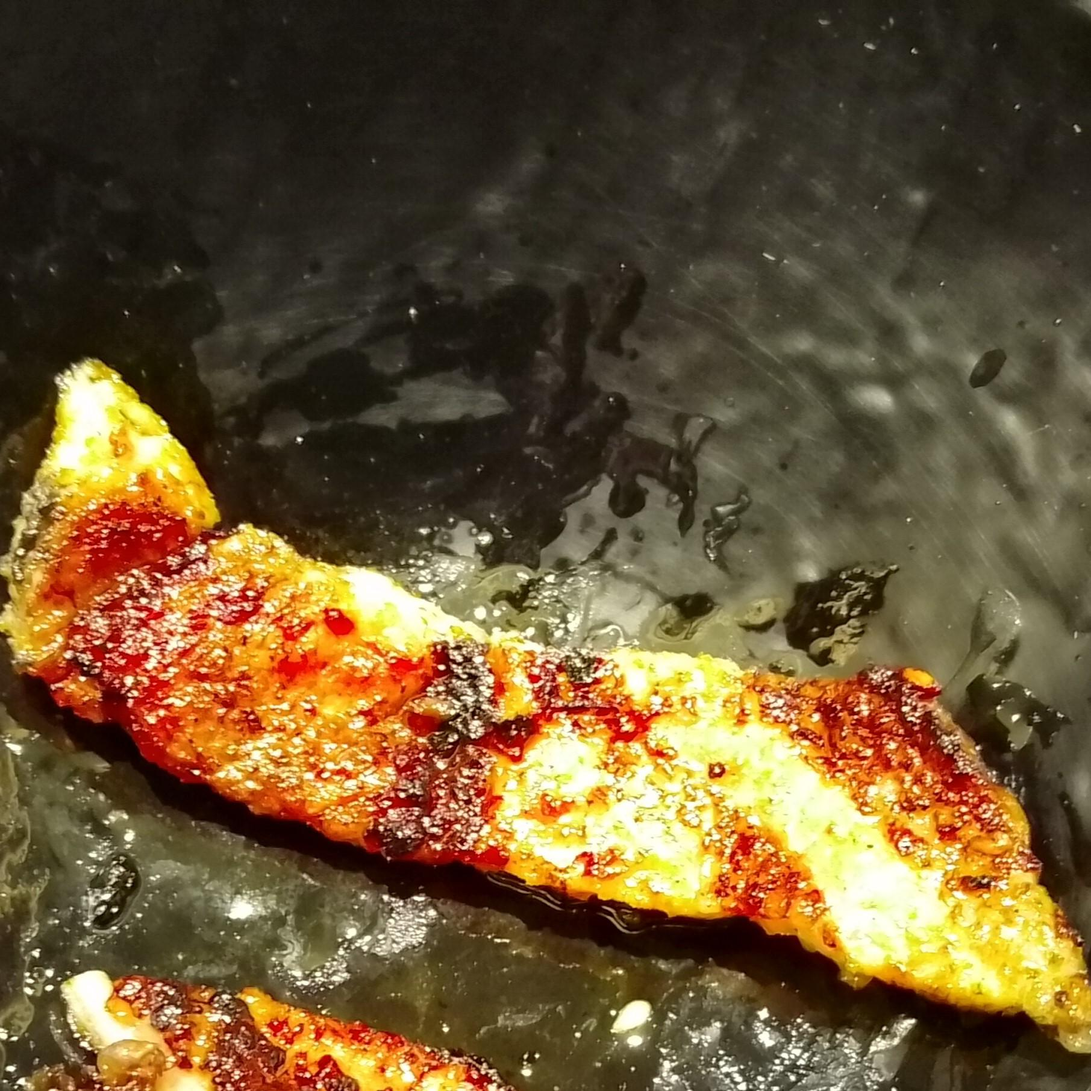Overcooked: (0, 363, 1090, 1051)
